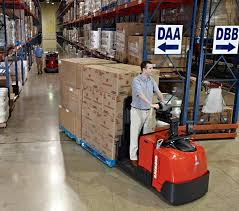Pallet Jack: (58, 93, 210, 207)
